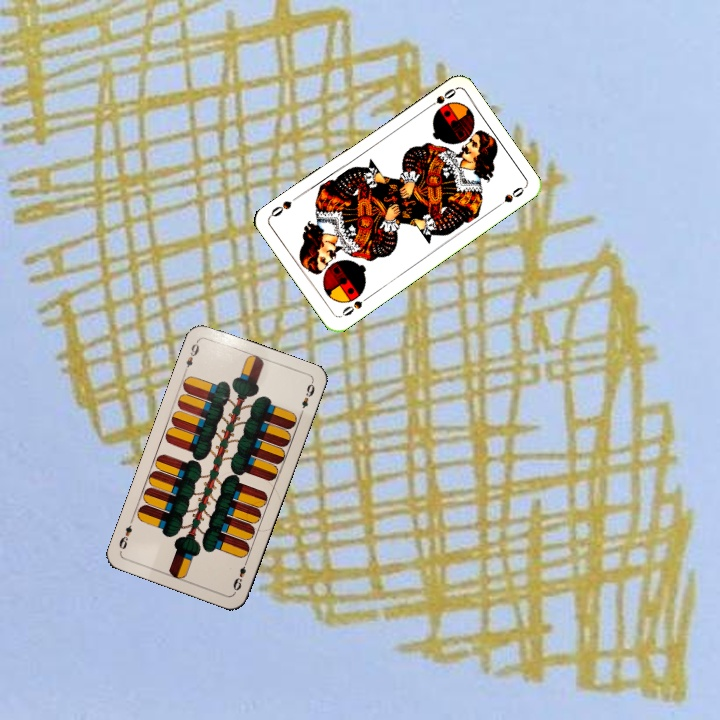E9: (180, 337, 202, 376), (229, 556, 251, 593)
SO: (422, 84, 459, 113), (337, 292, 373, 319)
